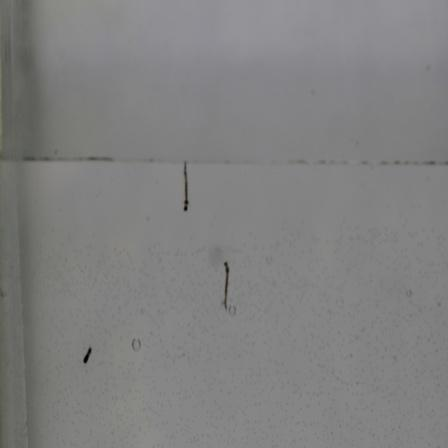Jentik-Nyamuk: (218, 259, 234, 312), (179, 159, 192, 217), (80, 343, 97, 367)
